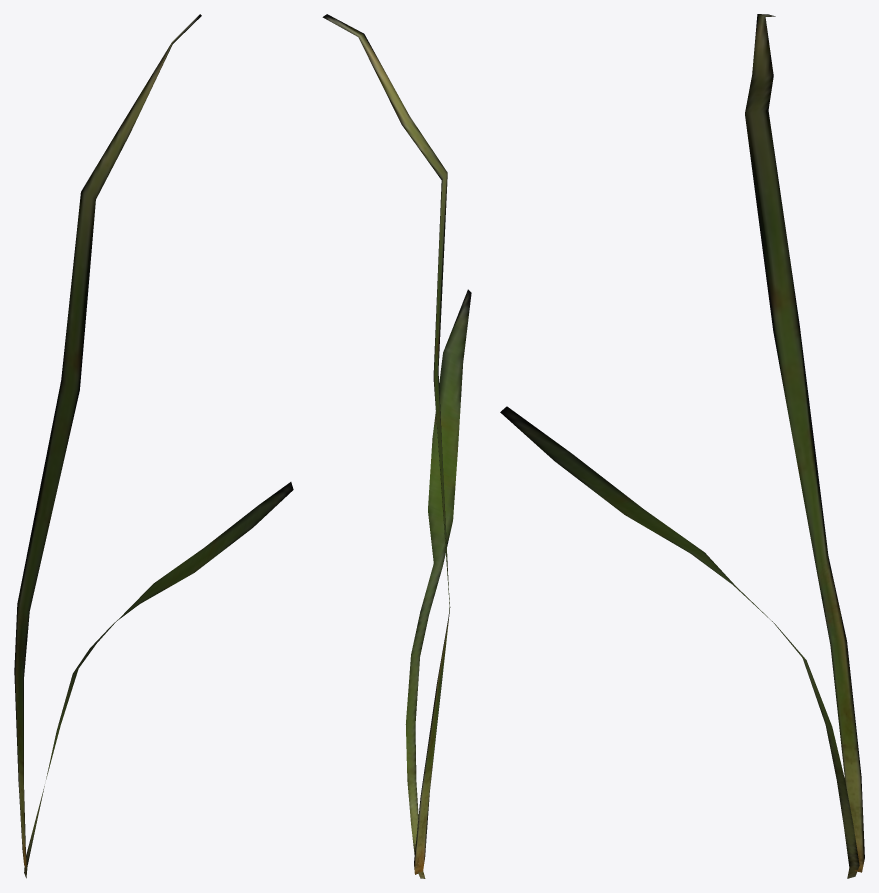
Rendered from SM_Grass_14.gltf.
The picture shows the model from 3 angles, left to right: view 1: azimuth 30°, elevation 25°; view 2: azimuth 150°, elevation 25°; view 3: azimuth 270°, elevation 25°; orthographic projection. The views are drawn at different scales.
Visible parts, largest first — view 1: SM_Grass_14; view 2: SM_Grass_14; view 3: SM_Grass_14.
Part boxes in pixels (x1,y1,x2,y2): SM_Grass_14: (14,14,293,878); SM_Grass_14: (322,14,471,878); SM_Grass_14: (500,14,864,878).
Bounding box in the file's own units: 0.016 × 0.0824 × 0.029.
Materials: 1 (1 with a texture image).
